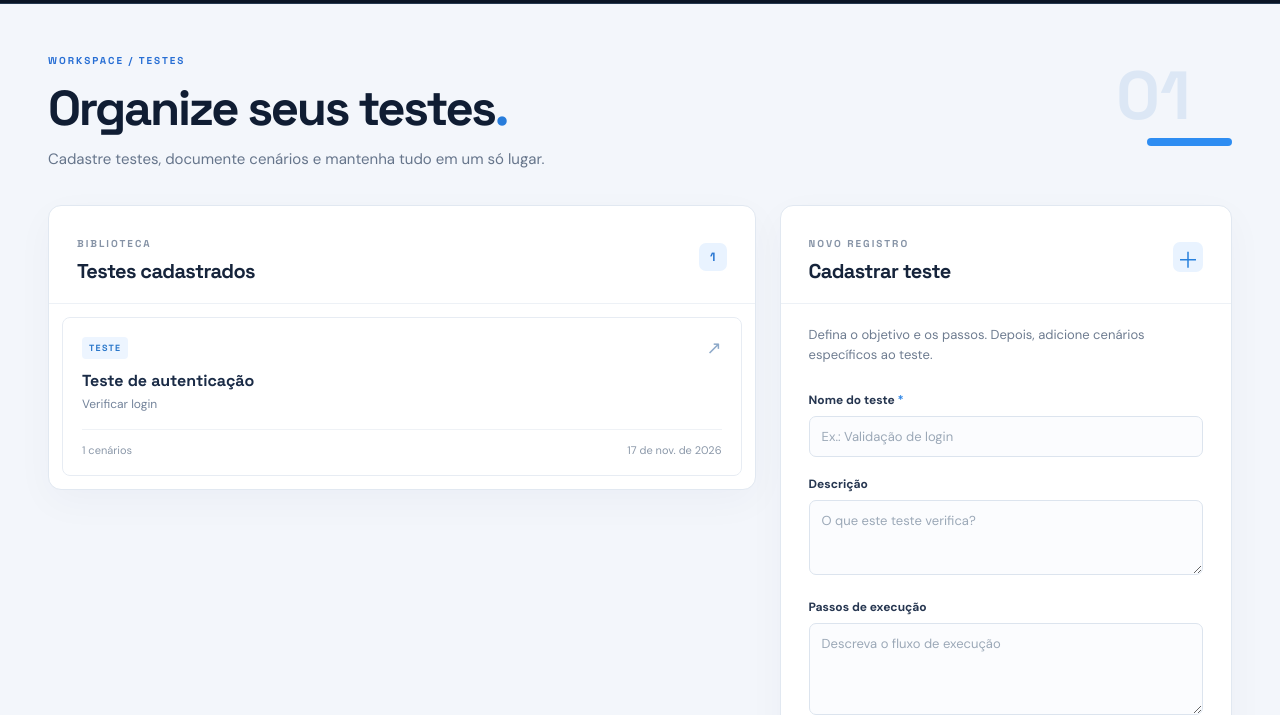
Test: TES-55/56/61/62: execução manual e histórico › finaliza como bloqueado e atualiza o resultado na listagem
Click the button "Teste de autenticação": (105, 348) [62,317,742,476]
(page scrolled)
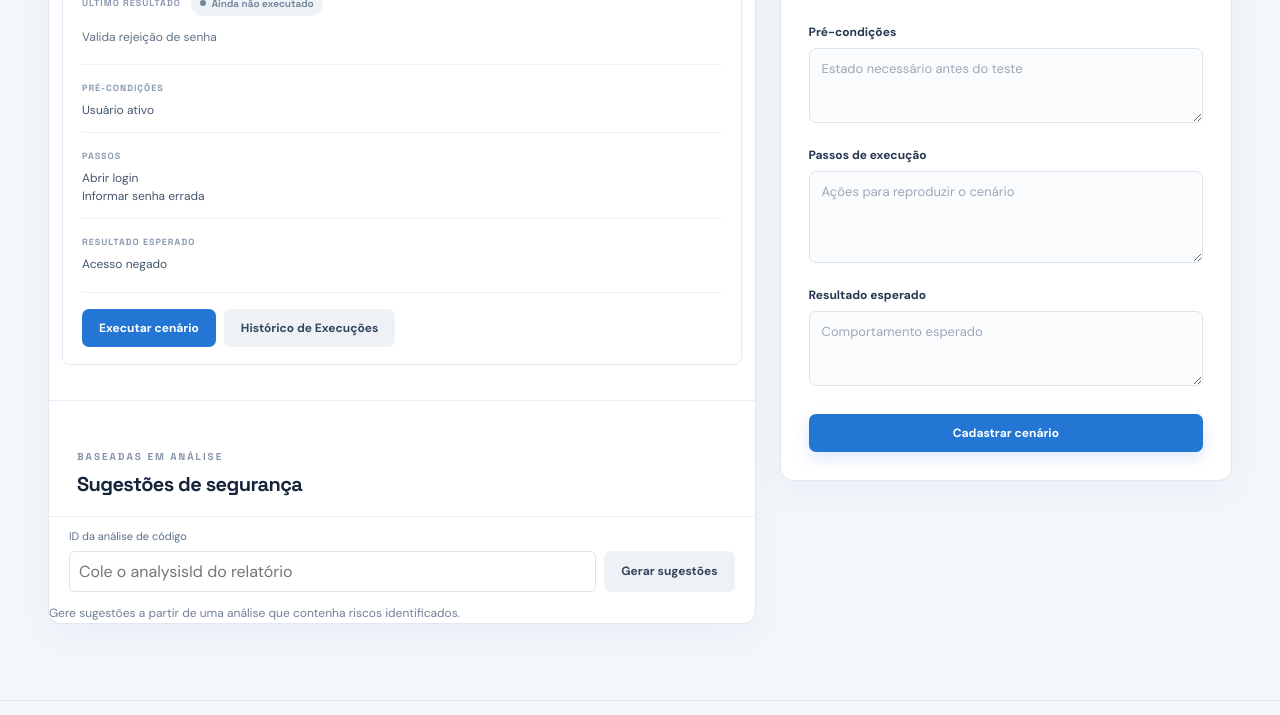
Click the button "Executar cenário": (149, 328) [82,309,216,347]
(page scrolled)
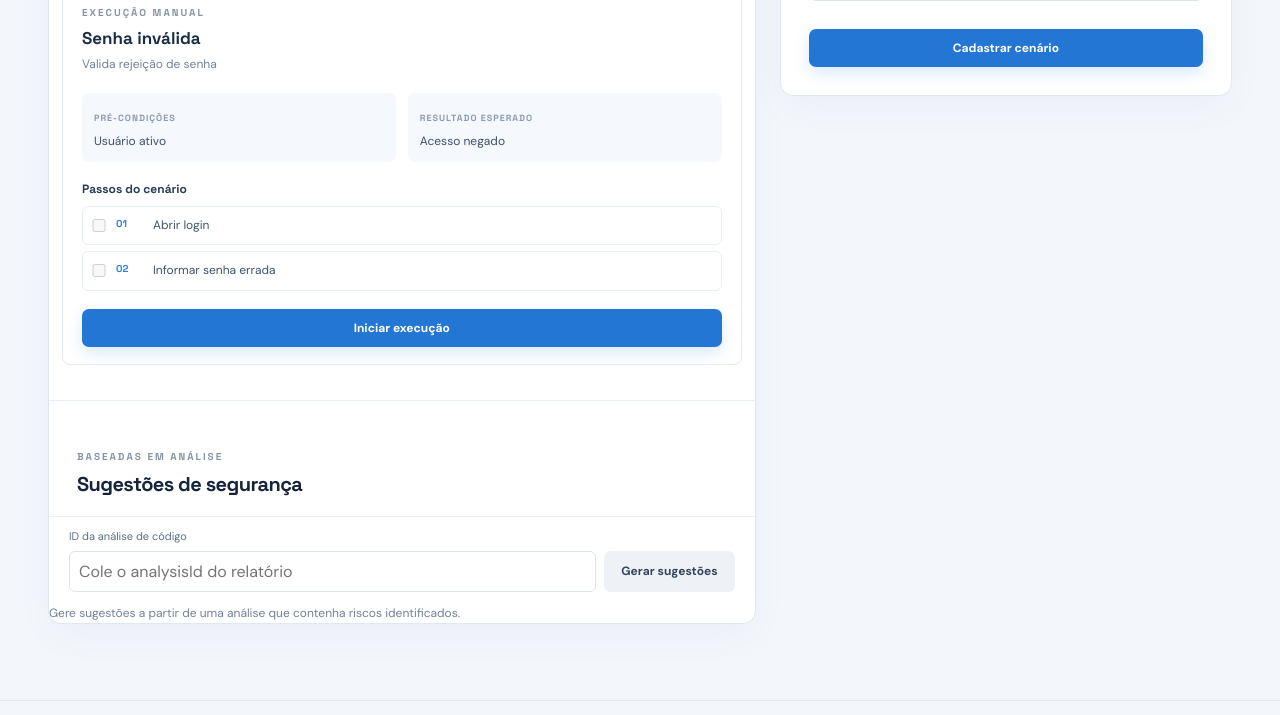
Click the button "Iniciar execução": (402, 328) [82,308,722,346]
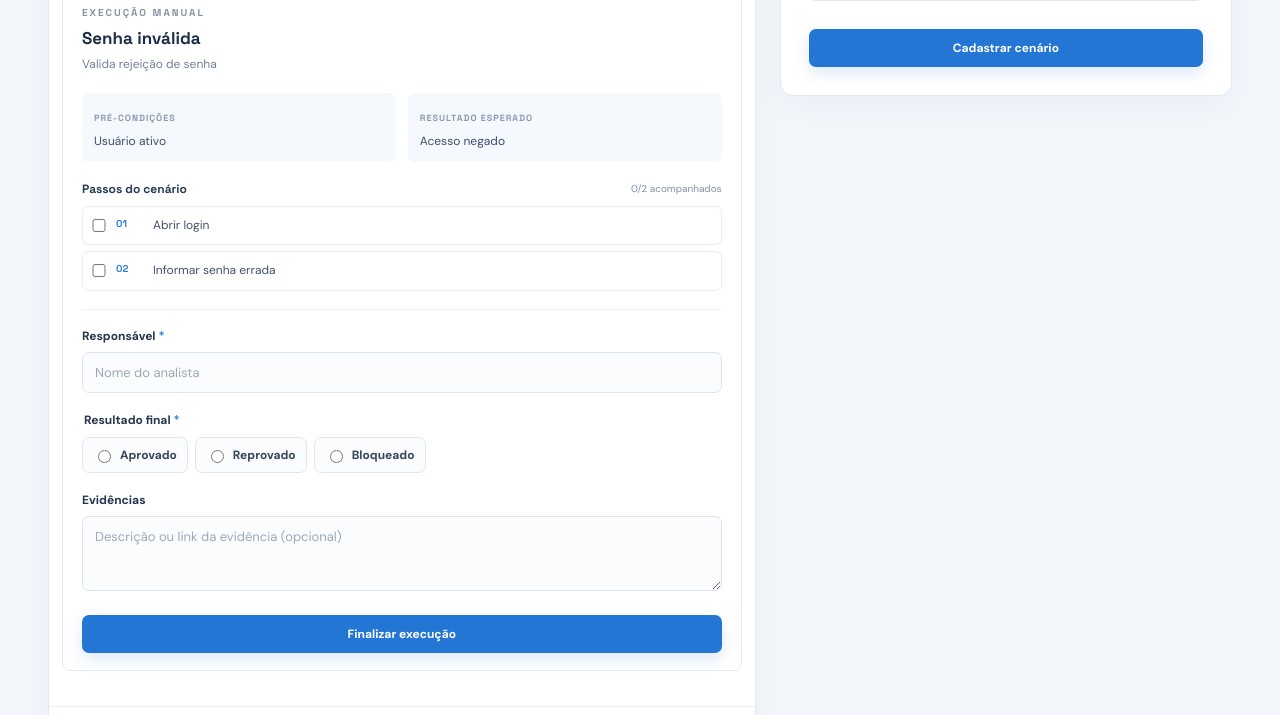
Expected: the field labelled "Responsável *" is shown
In the field labelled "Responsável *": (402, 372) [82,352,722,392], type "Ana QA"
Click the radio button labelled "Bloqueado": (336, 456) [330,450,343,462]
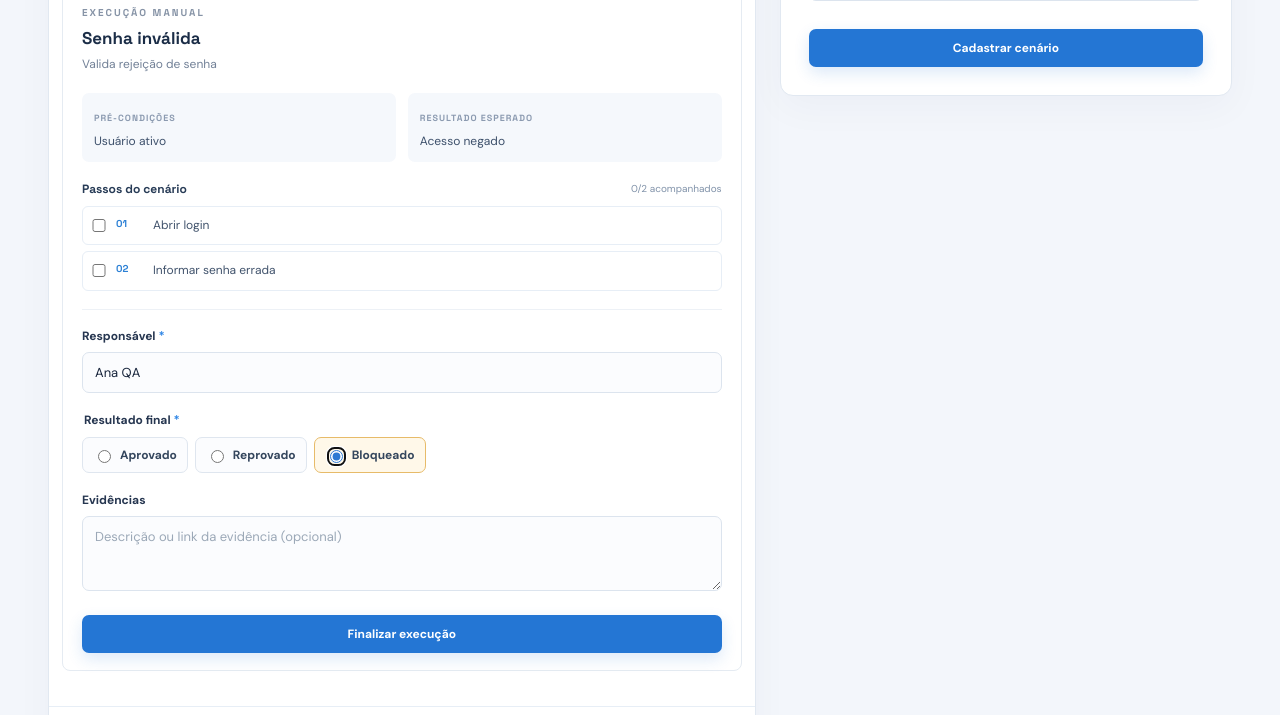
In the text box labelled "Evidências": (402, 553) [82,516,722,590], type "Captura"
Click the button "Finalizar execução": (402, 634) [82,614,722,652]
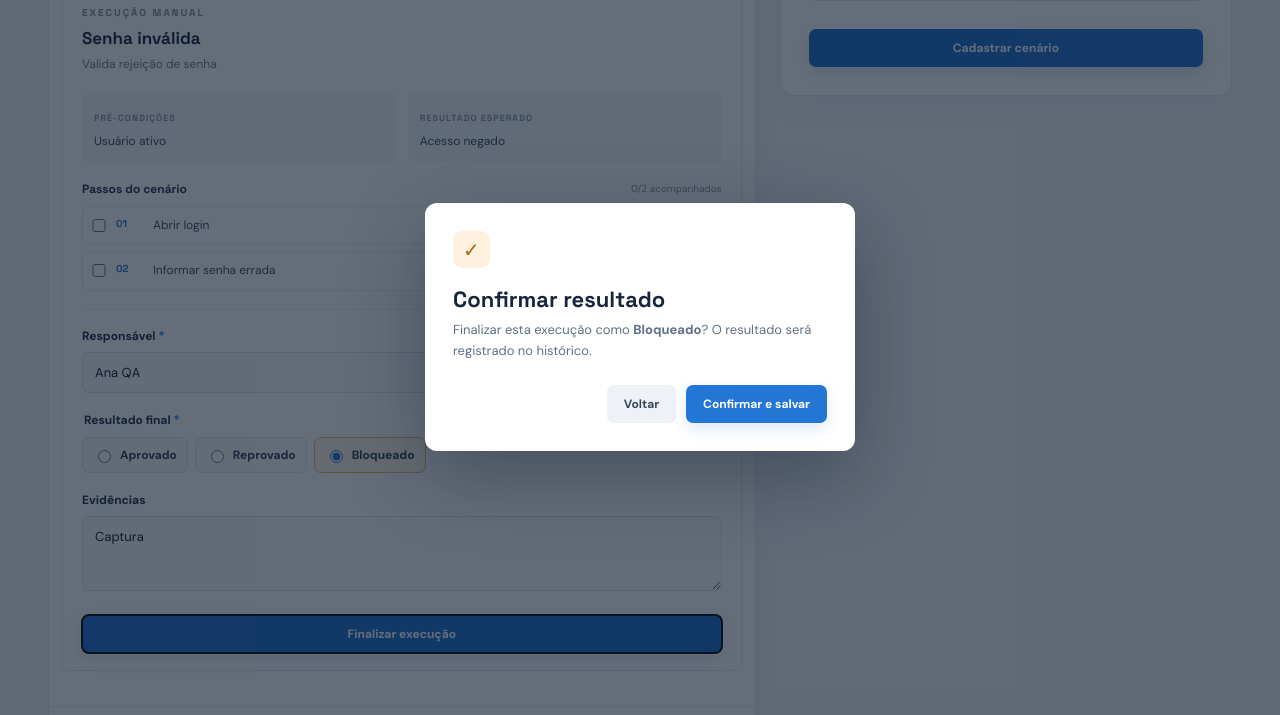
Expected: the text "Finalizar esta execução" is shown, [453,321,633,338]
Click the button "Confirmar e salvar": (757, 404) [686,385,827,423]
(page scrolled)
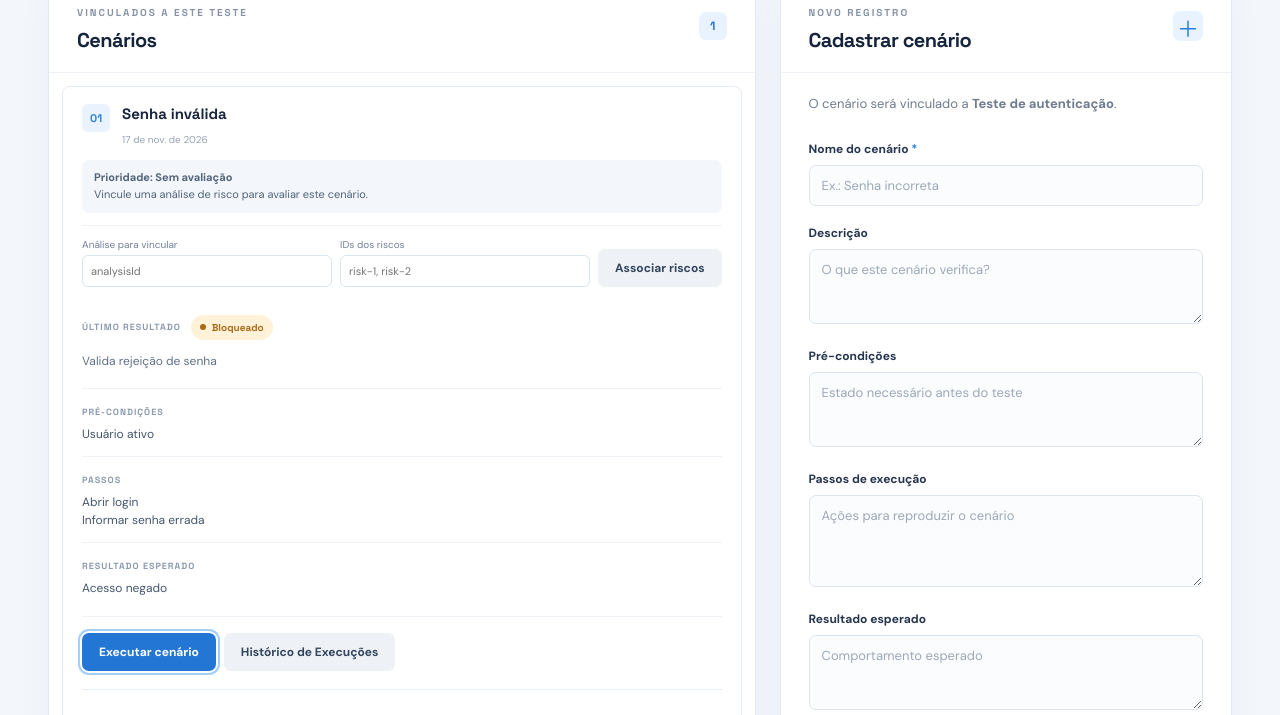
Expected: the text "Bloqueado" is shown, [191,315,273,340]
